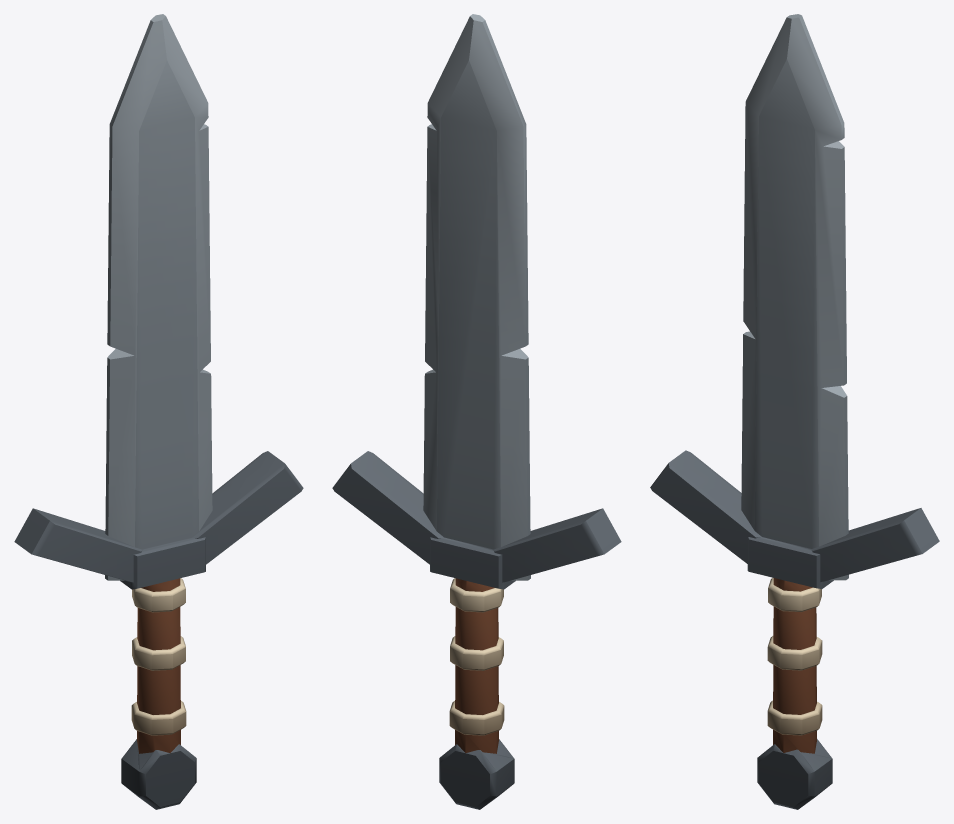
The model's file is claymore_iron.glb.
The picture shows the model from 3 angles, left to right: view 1: azimuth 30°, elevation 25°; view 2: azimuth 150°, elevation 25°; view 3: azimuth 330°, elevation 25°; orthographic projection.
Visible parts, largest first — view 1: Item; view 2: Item; view 3: Item.
Boxes of the visible parts, x1,y1,x2,y2 form: Item: (14, 14, 303, 809); Item: (332, 14, 621, 809); Item: (650, 14, 939, 809).
Size of the model in its own units: 0.88 by 2.42 by 0.1591.
2 materials, 2 textured.
